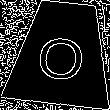O_N: (35, 25, 89, 81)
